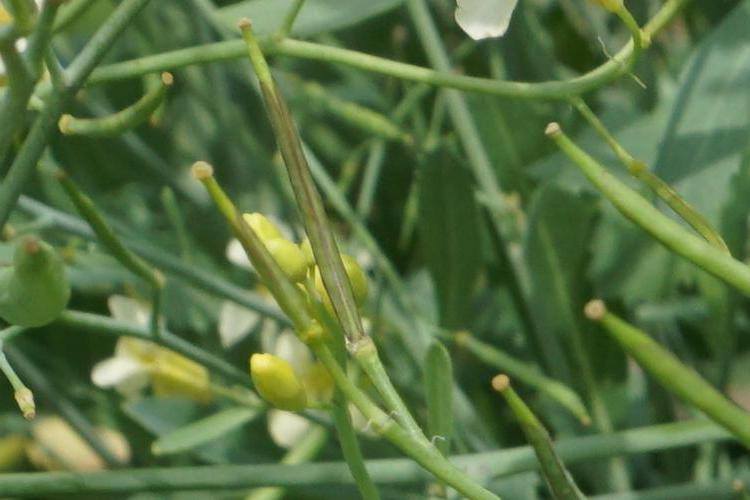bud: (220, 348, 307, 429), (313, 245, 394, 327), (254, 231, 317, 289), (224, 204, 285, 255)
pod: (534, 110, 738, 262), (202, 165, 300, 330), (582, 293, 733, 398), (29, 61, 171, 171), (250, 15, 311, 246), (464, 371, 574, 471)
